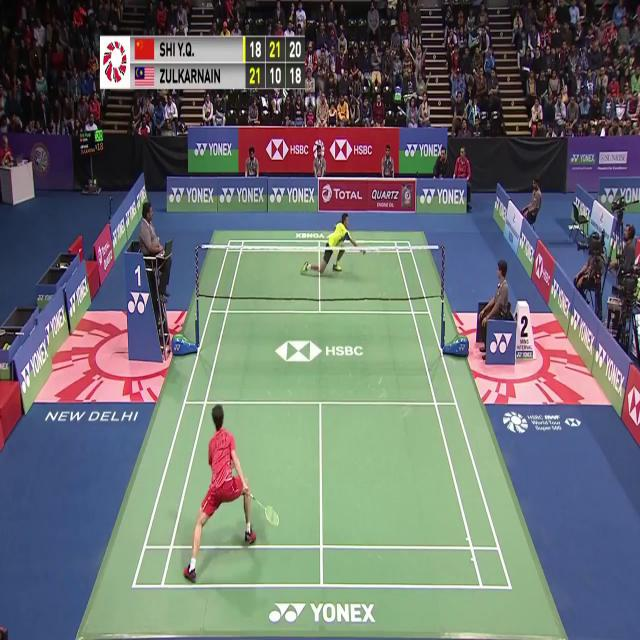Shuttlecock: (373, 243, 380, 255)
